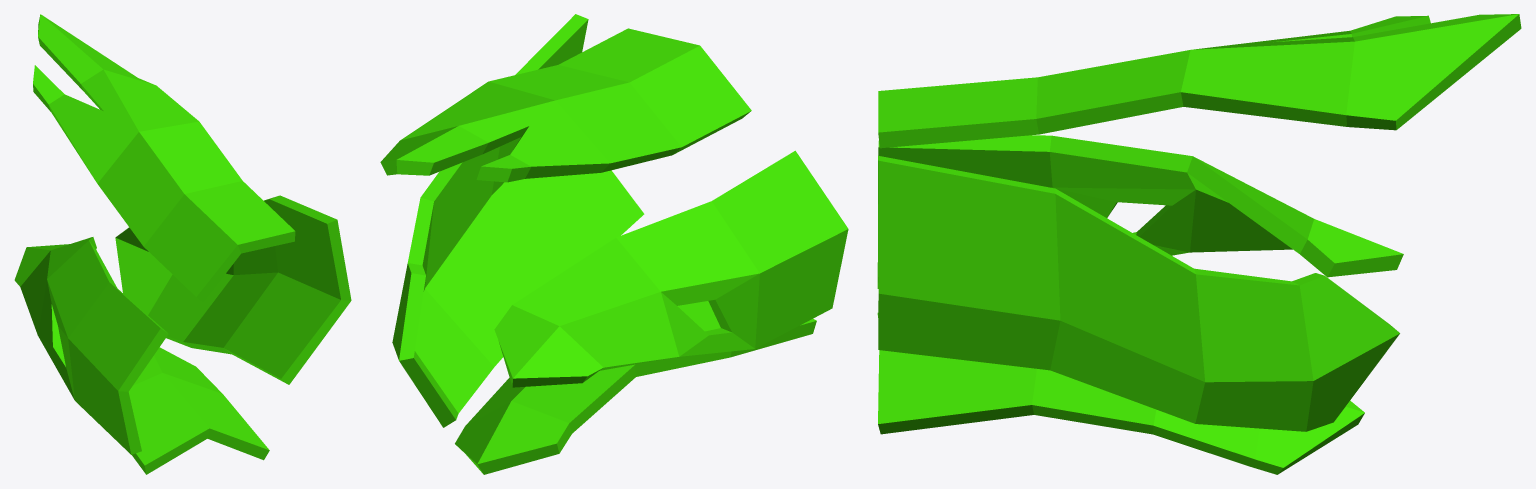
File: SeaGrass1.fbx
3 renders of one model, left to right at view 1: azimuth 30°, elevation 25°; view 2: azimuth 150°, elevation 25°; view 3: azimuth 270°, elevation 25°, orthographic. The views are drawn at different scales.
Parts seen in each view (by area): view 1: SeaGrass1; view 2: SeaGrass1; view 3: SeaGrass1.
Boxes of the visible parts, box(x1,y1,x2,y2) form: SeaGrass1: box(14, 14, 351, 474); SeaGrass1: box(380, 14, 848, 474); SeaGrass1: box(877, 14, 1521, 474).
Bounding box in the file's own units: 22.77 × 27.8 × 36.8.
